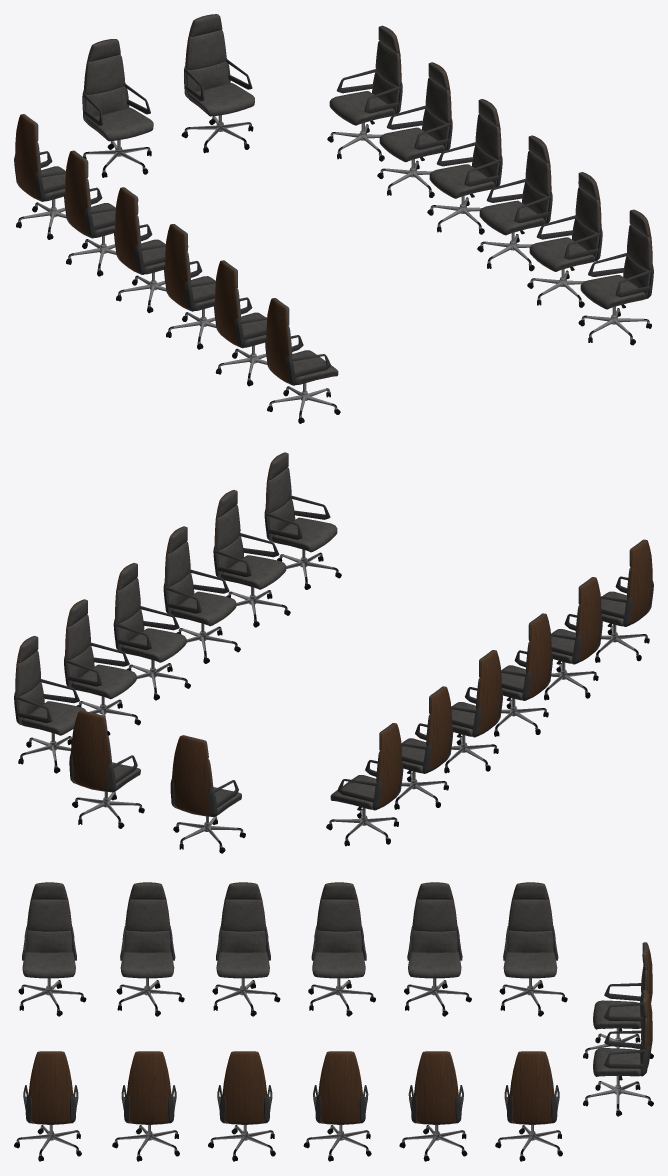
The model's file is CR06_Chairs.FBX.
3 views of the same model, one above another, from view 1: azimuth 30°, elevation 25°; view 2: azimuth 150°, elevation 25°; view 3: azimuth 270°, elevation 25° (orthographic). The views are drawn at different scales.
Visible parts, largest first — view 1: CR06_Chair_07, CR06_Chair_08, CR06_Chair_01, CR06_Chair_02, CR06_Chair_04, CR06_Chair_03, CR06_Chair_06, CR06_Chair_05, CR06_Chair_14, CR06_Chair_13, CR06_Chair_09, CR06_Chair_10 (+2 smaller); view 2: CR06_Chair_01, CR06_Chair_03, CR06_Chair_04, CR06_Chair_02, CR06_Chair_07, CR06_Chair_06, CR06_Chair_05, CR06_Chair_08, CR06_Chair_09, CR06_Chair_14, CR06_Chair_12, CR06_Chair_13 (+2 smaller); view 3: CR06_Chair_10, CR06_Chair_11, CR06_Chair_09, CR06_Chair_13, CR06_Chair_12, CR06_Chair_14, CR06_Chair_05, CR06_Chair_03, CR06_Chair_06, CR06_Chair_04, CR06_Chair_02, CR06_Chair_01 (+2 smaller).
Part boxes in pixels (bbox=[...]): CR06_Chair_07: bbox=[181, 14, 254, 153]; CR06_Chair_08: bbox=[82, 39, 153, 177]; CR06_Chair_01: bbox=[578, 209, 653, 345]; CR06_Chair_02: bbox=[527, 172, 602, 307]; CR06_Chair_04: bbox=[427, 99, 502, 234]; CR06_Chair_03: bbox=[477, 135, 552, 271]; CR06_Chair_06: bbox=[327, 25, 402, 161]; CR06_Chair_05: bbox=[377, 62, 452, 197]; CR06_Chair_14: bbox=[265, 298, 340, 423]; CR06_Chair_13: bbox=[214, 260, 267, 386]; CR06_Chair_09: bbox=[14, 114, 66, 239]; CR06_Chair_10: bbox=[64, 150, 116, 276]; CR06_Chair_01: bbox=[264, 452, 341, 589]; CR06_Chair_03: bbox=[163, 526, 240, 663]; CR06_Chair_04: bbox=[113, 563, 190, 700]; CR06_Chair_02: bbox=[213, 490, 290, 627]; CR06_Chair_07: bbox=[69, 710, 144, 828]; CR06_Chair_06: bbox=[14, 636, 85, 773]; CR06_Chair_05: bbox=[64, 599, 140, 735]; CR06_Chair_08: bbox=[170, 735, 245, 853]; CR06_Chair_09: bbox=[326, 723, 403, 846]; CR06_Chair_14: bbox=[595, 539, 653, 662]; CR06_Chair_12: bbox=[494, 613, 552, 736]; CR06_Chair_13: bbox=[544, 577, 602, 700]; CR06_Chair_10: bbox=[404, 882, 471, 1016]; CR06_Chair_11: bbox=[308, 882, 375, 1016]; CR06_Chair_09: bbox=[499, 882, 567, 1016]; CR06_Chair_13: bbox=[116, 882, 184, 1016]; CR06_Chair_12: bbox=[212, 882, 280, 1016]; CR06_Chair_14: bbox=[18, 882, 86, 1016]; CR06_Chair_05: bbox=[399, 1051, 467, 1161]; CR06_Chair_03: bbox=[208, 1051, 275, 1161]; CR06_Chair_06: bbox=[495, 1051, 562, 1161]; CR06_Chair_04: bbox=[303, 1051, 371, 1161]; CR06_Chair_02: bbox=[112, 1051, 179, 1161]; CR06_Chair_01: bbox=[14, 1051, 81, 1161].
Size of the model in its own units: 4851 by 1382 by 7477.
